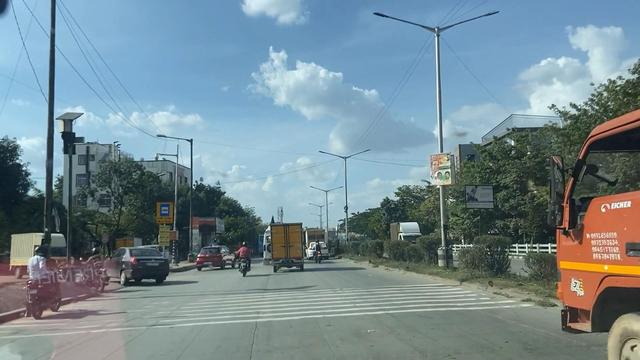HMV: (92, 275, 496, 318), (265, 221, 305, 273)
LMV: (26, 246, 61, 315), (113, 249, 173, 286), (203, 245, 239, 272), (241, 245, 250, 273)
